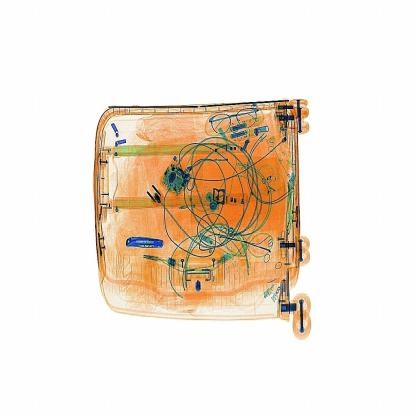knife: (124, 233, 172, 258)
